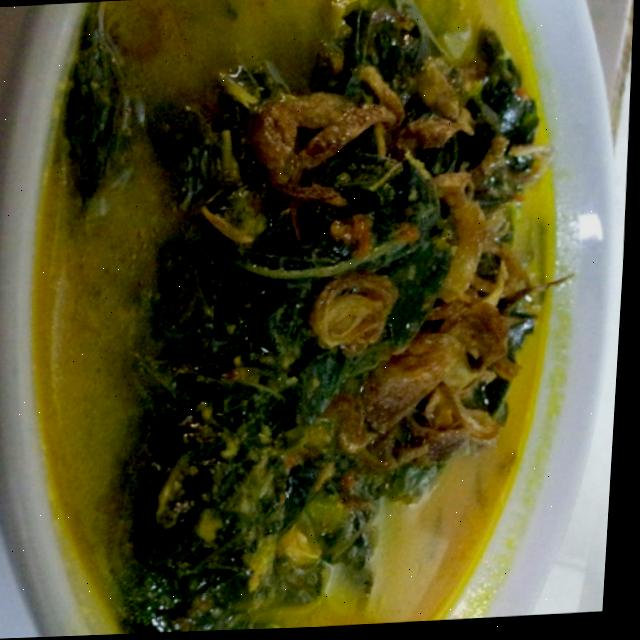熟制海鲜: (5, 0, 620, 637)
